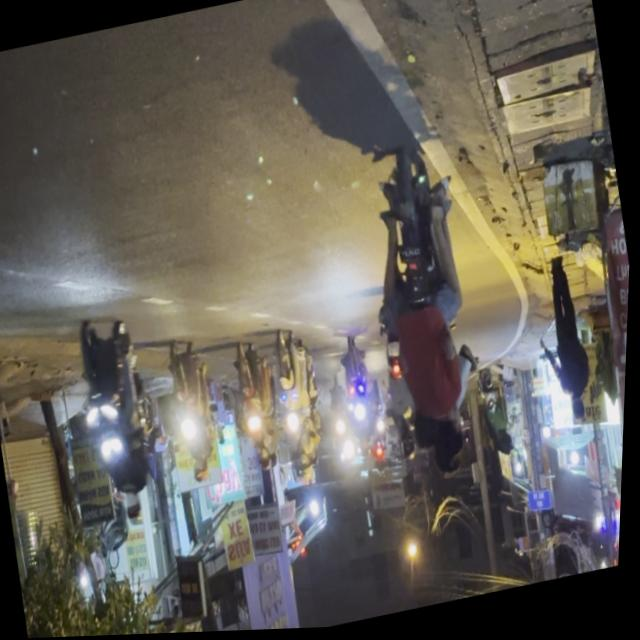helmet: (124, 486, 149, 528)
licenseplate: (347, 134, 504, 492), (65, 303, 182, 543)
motorcyclist: (428, 416, 471, 479)
